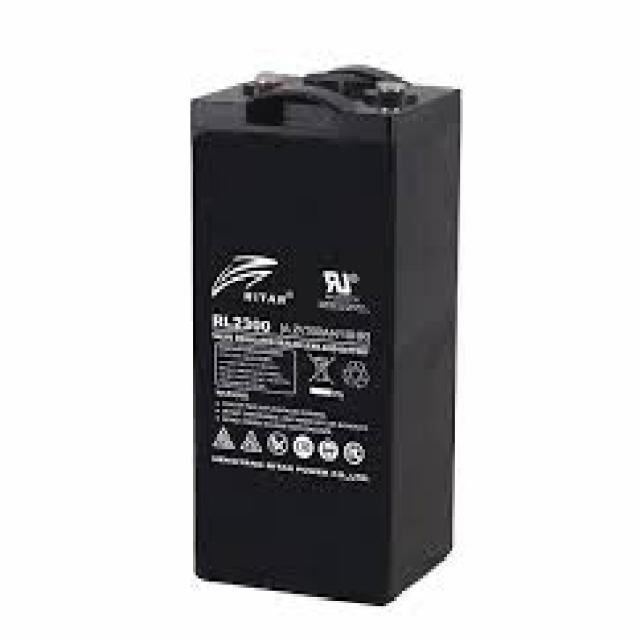battery: (189, 61, 459, 608)
